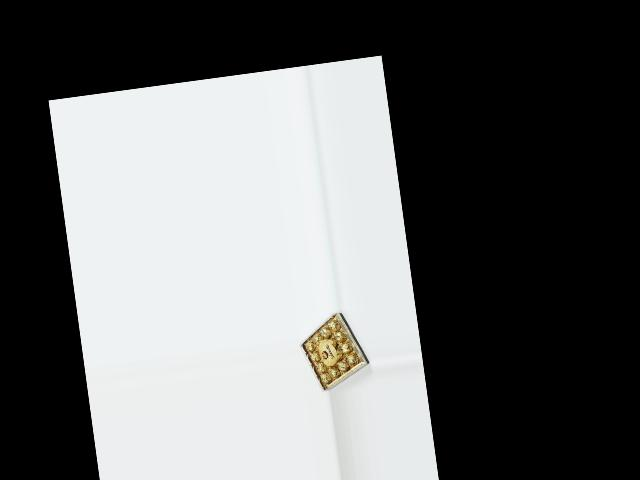chocolate: (295, 307, 374, 394)
